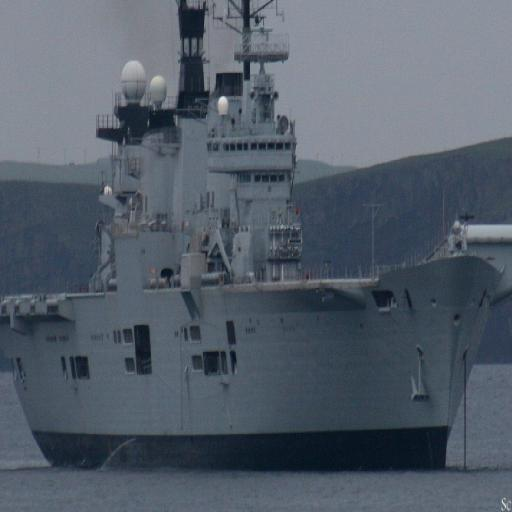Portanaves: (1, 1, 512, 490)
